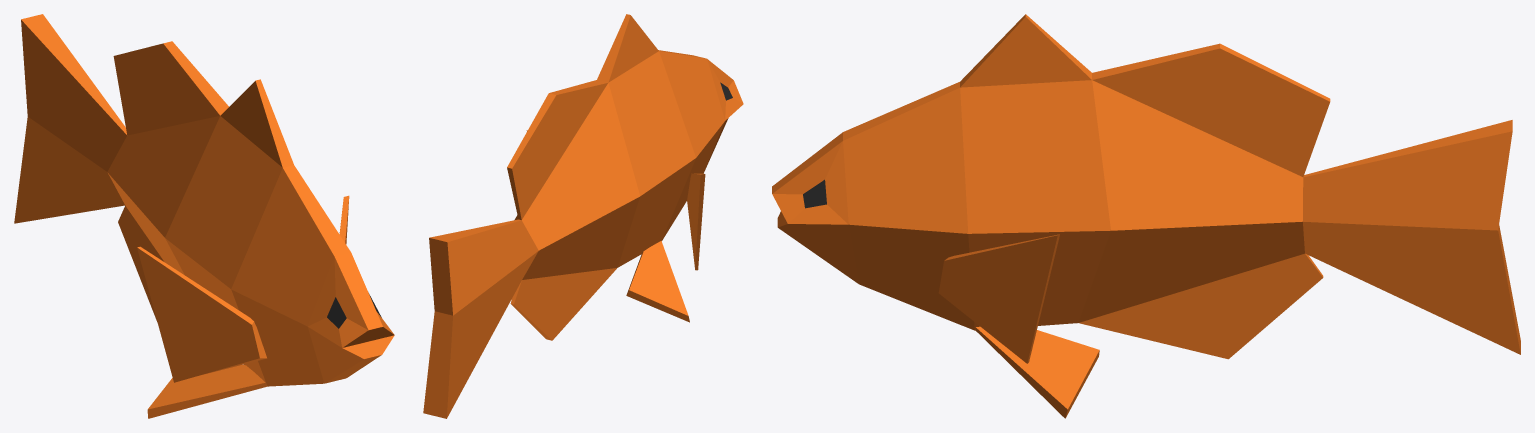
File: animals_fish.fbx
3 views of the same model, side by side, from view 1: azimuth 30°, elevation 25°; view 2: azimuth 150°, elevation 25°; view 3: azimuth 270°, elevation 25° (orthographic). The views are drawn at different scales.
Visible parts, largest first — view 1: animals_fish; view 2: animals_fish; view 3: animals_fish.
Part boxes in pixels (x1,y1,x2,y2): animals_fish: (14, 14, 394, 418); animals_fish: (423, 14, 743, 418); animals_fish: (772, 14, 1520, 418).
Size of the model in its own units: 70.53 by 105 by 200.
